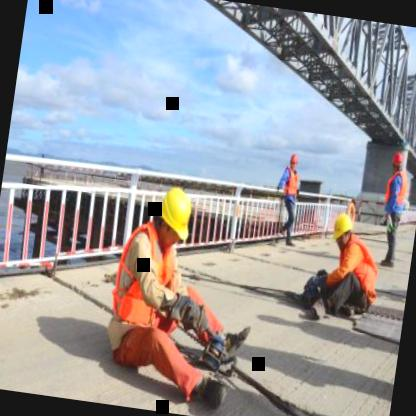helmet: (147, 175, 198, 254), (326, 209, 358, 256), (385, 146, 405, 176), (285, 148, 302, 176)
